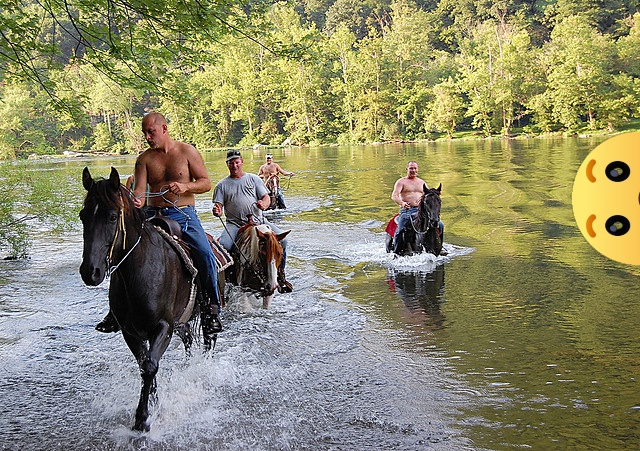wow: (572, 132, 640, 265)
